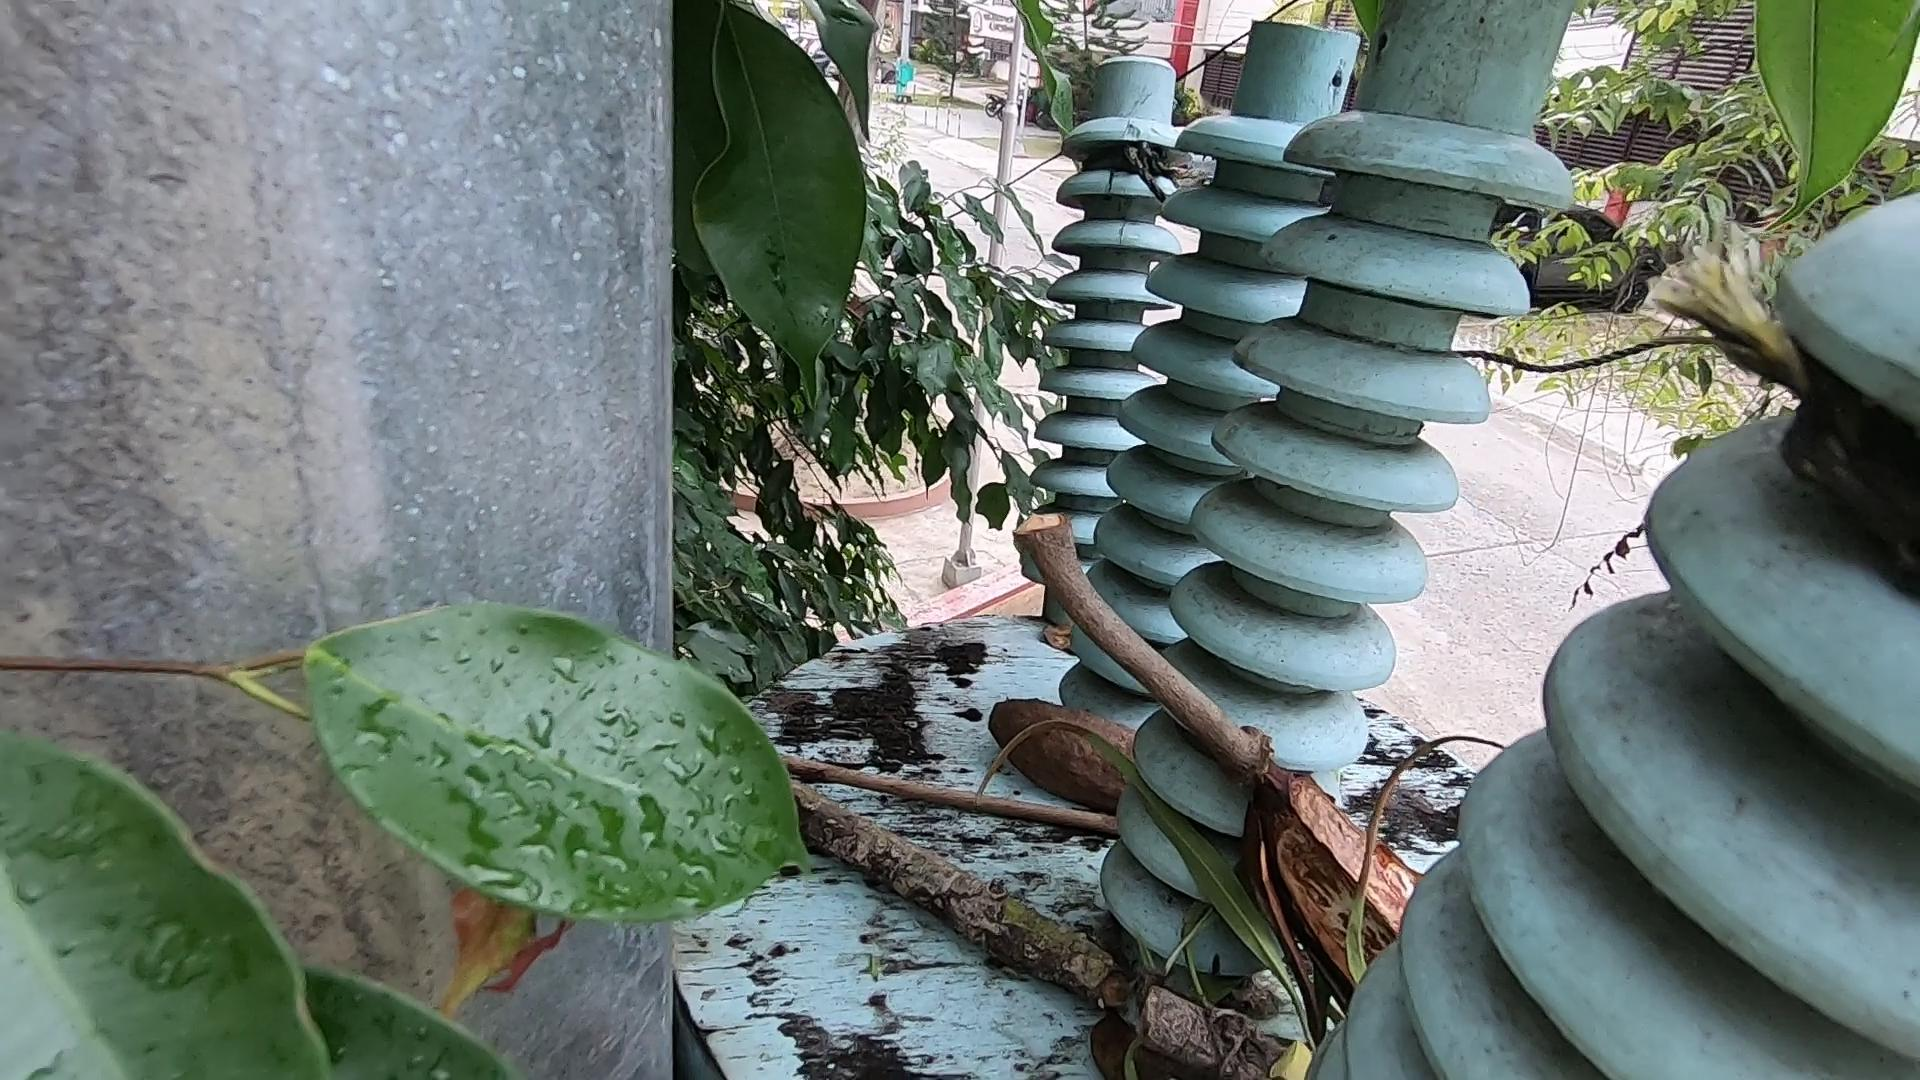leaf: (1001, 592, 1166, 719)
mahogany fruit: (1247, 746, 1447, 1029), (978, 676, 1133, 851)
tree branch: (791, 789, 1302, 1080), (1039, 521, 1279, 774), (786, 760, 1124, 829)
